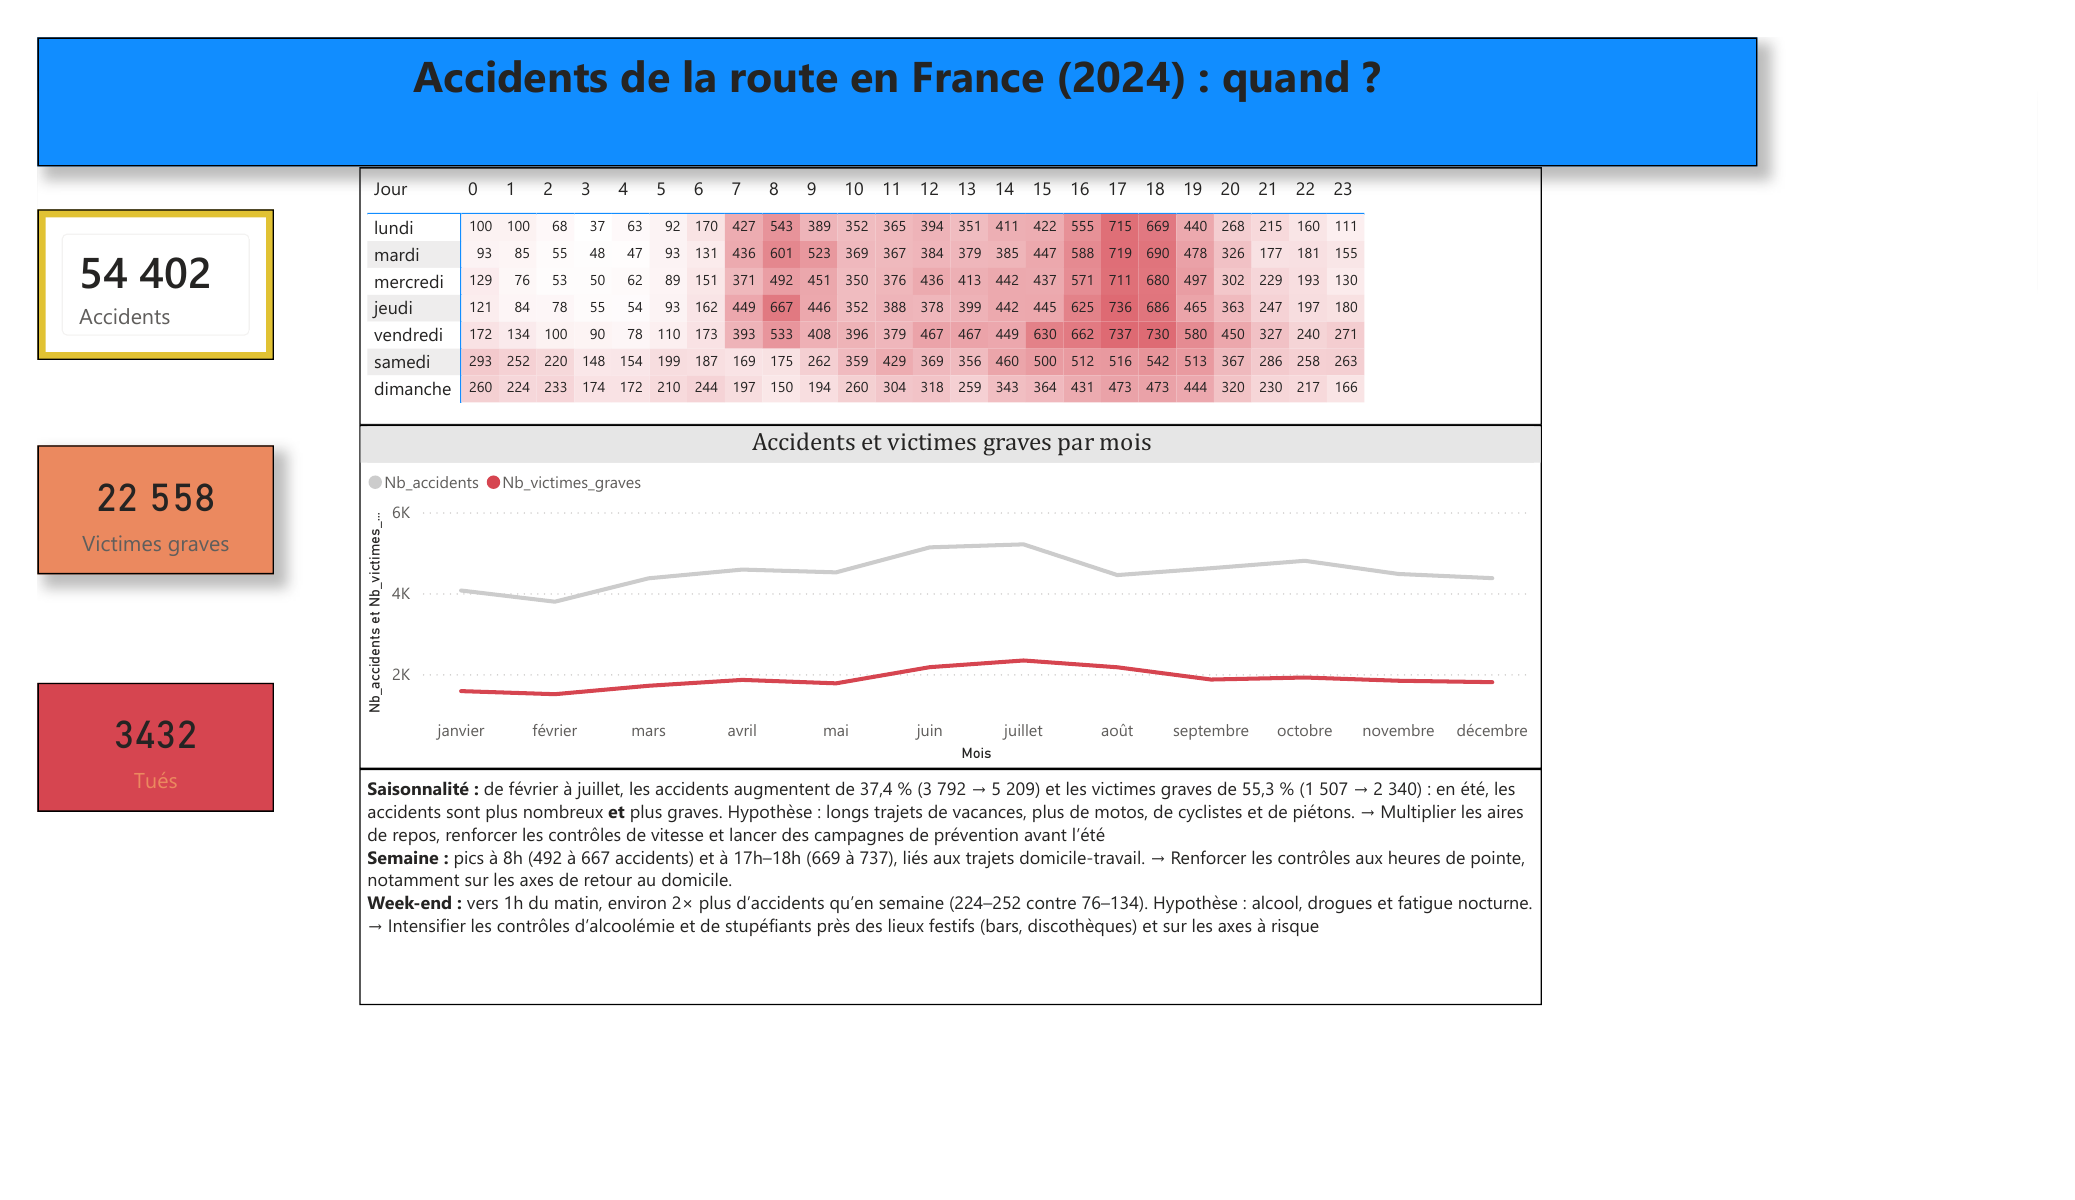

This screenshot's page, from the dashboard's own definition file:
{"tool":"powerbi","page":{"name":"Vue d’ensemble et moments à risque","canvas":[1280,720],"ordinal":0},"visuals":[{"type":"cardVisual","fields":{"Data":["_Mesures.Nb_accidents_affiche"]},"box":[0,128,176,112],"z":0},{"type":"card","fields":{"Values":["_Mesures.Nb_tues_affiche"]},"box":[0,304,176,96],"z":1000},{"type":"card","fields":{"Values":["_Mesures.Nb_tues"]},"box":[0,480,176,96],"z":2000},{"type":"pivotTable","fields":{"Rows":["carat.Jour"],"Values":["_Mesures.Nb_accidents"],"Columns":["carat.Heure"]},"box":[240,96,880,192],"z":3000},{"type":"textbox","box":[240,544,880,176],"z":4000},{"type":"lineChart","title":"Accidents et victimes graves par mois","fields":{"Category":["carat.Mois"],"Y":["_Mesures.Nb_accidents","_Mesures.Nb_victimes_graves"]},"box":[240,288,880,256],"z":5000},{"type":"textbox","box":[880,80,400,16],"z":6000},{"type":"textbox","box":[0,0,1280,96],"z":7000}]}

Visuals, with their boxes on the page's 1280x720 design canvas (x1, y1, x2, y2). These are canvas units, not pixel positions in the 2075x1200 screenshot, which may show the page scaled, cropped or inside an application window:
cardVisual - _Mesures.Nb_accidents_affiche: crop(0, 128, 176, 240)
card - _Mesures.Nb_tues_affiche: crop(0, 304, 176, 400)
card - _Mesures.Nb_tues: crop(0, 480, 176, 576)
pivotTable - carat.Jour x _Mesures.Nb_accidents: crop(240, 96, 1120, 288)
textbox: crop(240, 544, 1120, 720)
"Accidents et victimes graves par mois" lineChart: crop(240, 288, 1120, 544)
textbox: crop(880, 80, 1280, 96)
textbox: crop(0, 0, 1280, 96)
